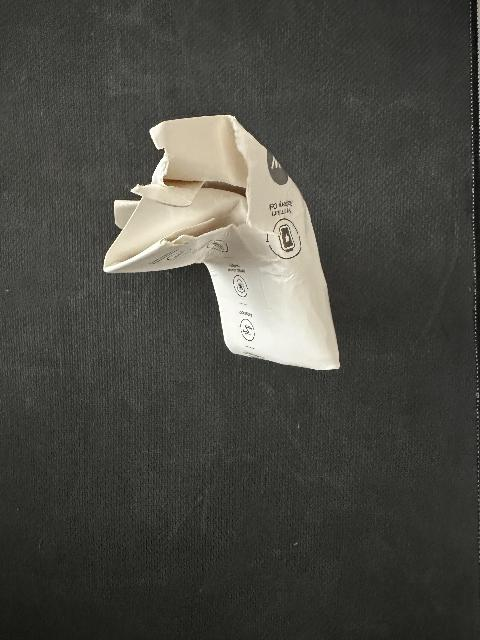Kagit: (100, 111, 338, 375)
